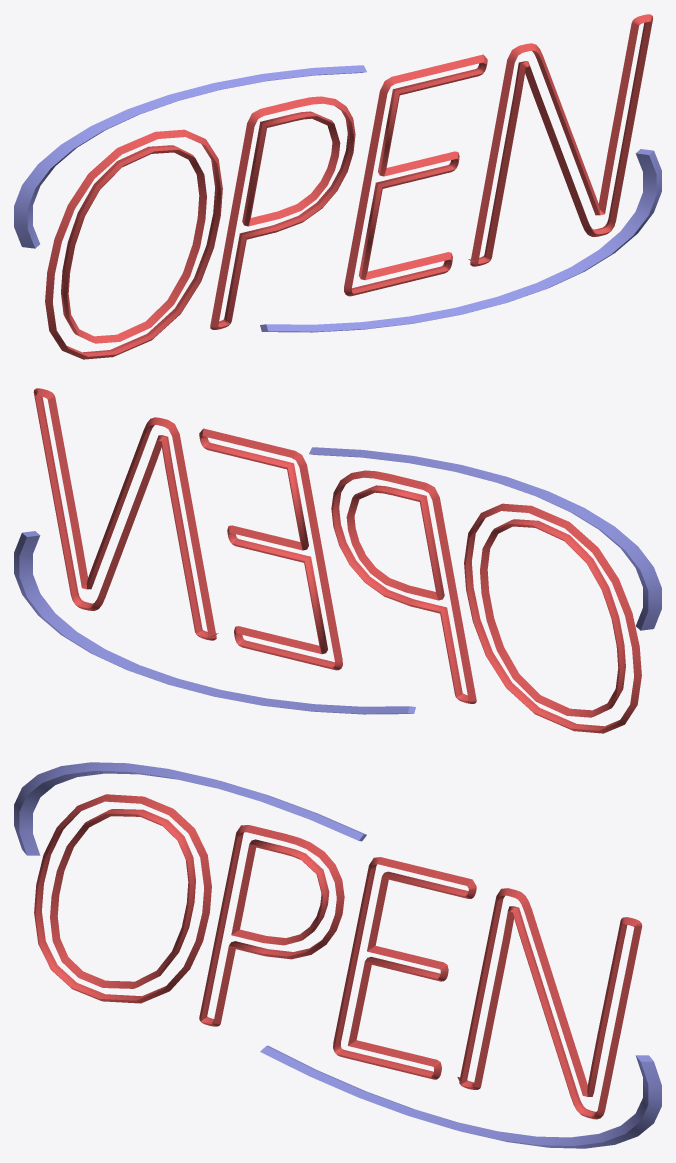
The model's file is OpenSign.fbx.
The picture shows the model from 3 angles, top to bottom: view 1: azimuth 30°, elevation 25°; view 2: azimuth 150°, elevation 25°; view 3: azimuth 330°, elevation 25°; orthographic projection.
Parts seen in each view (by area): view 1: OpenSign; view 2: OpenSign; view 3: OpenSign.
Part boxes in pixels (x1,y1,x2,y2): OpenSign: (14, 14, 661, 359); OpenSign: (14, 388, 661, 733); OpenSign: (14, 762, 661, 1148).
Size of the model in its own units: 1.7 by 0.7332 by 0.0582.
